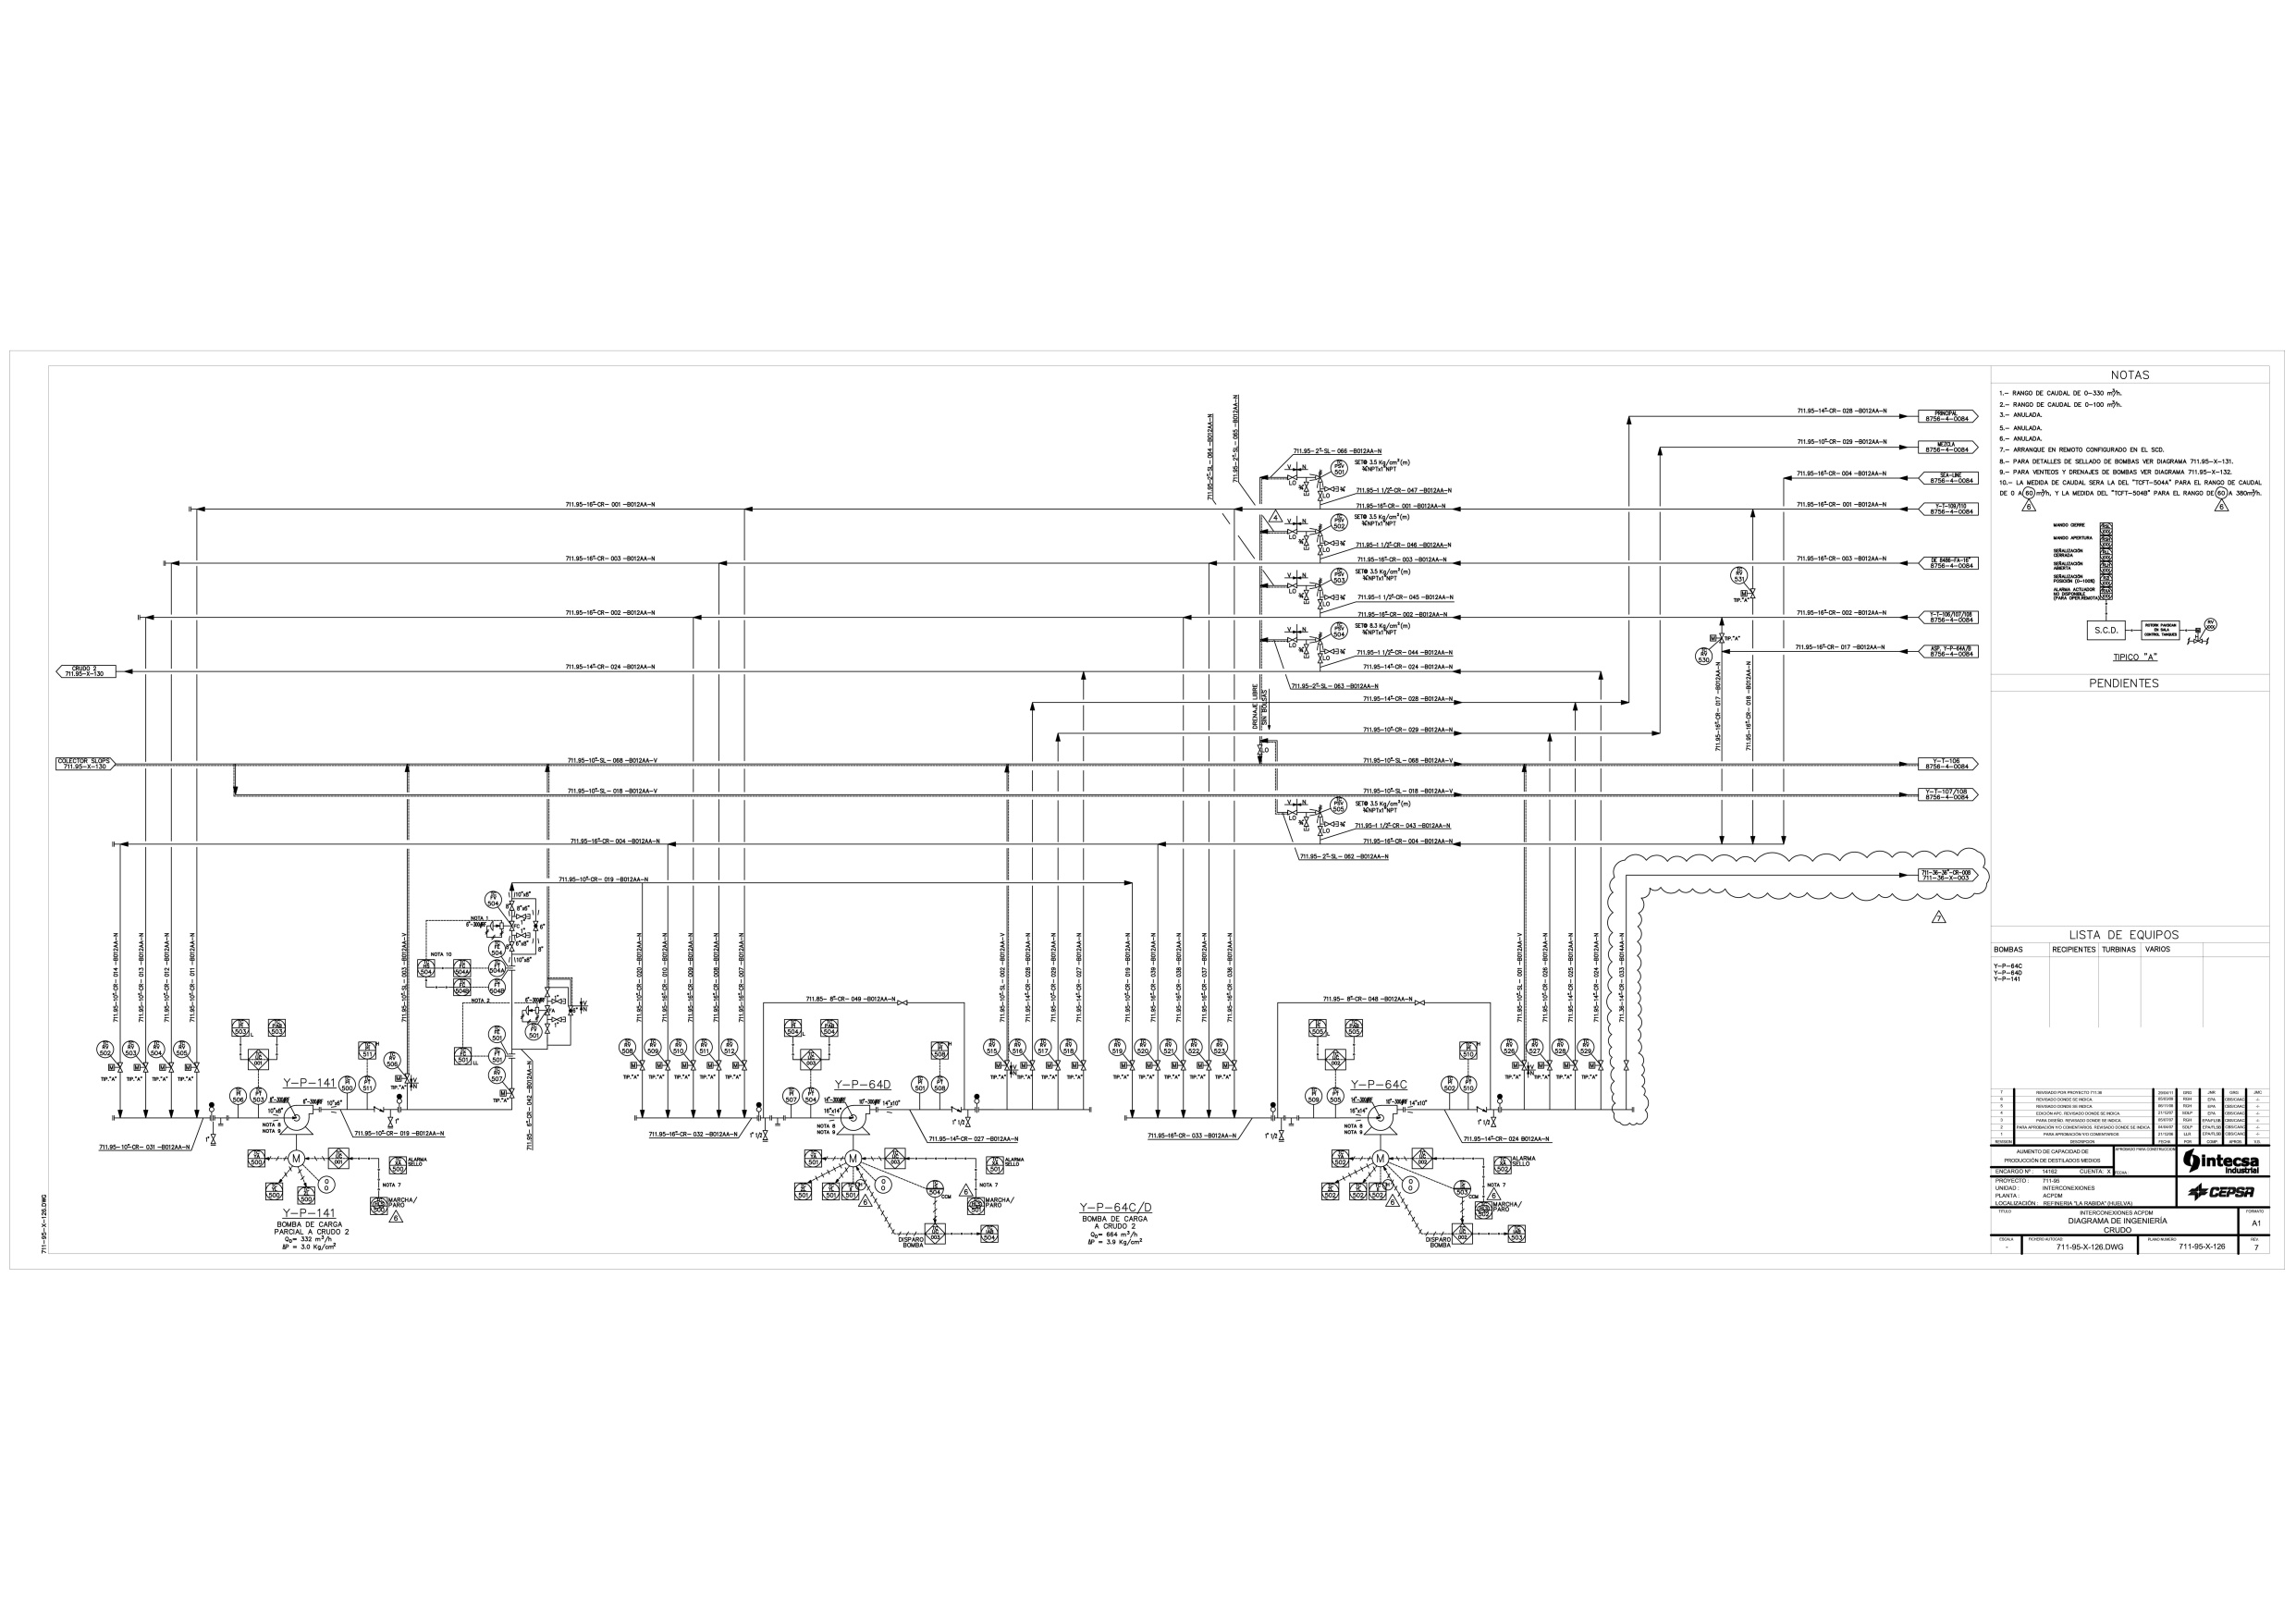Inlinel Instrument: (693, 1034, 714, 1060), (781, 1083, 802, 1109), (981, 1034, 1002, 1060), (1034, 1034, 1055, 1060), (1209, 1032, 1231, 1059), (1325, 1083, 1346, 1109), (95, 1037, 116, 1062), (121, 1037, 142, 1062), (170, 1036, 191, 1060), (228, 1085, 249, 1109), (486, 1022, 507, 1046), (718, 1034, 739, 1059), (337, 1073, 358, 1097), (909, 1073, 930, 1097), (1159, 1036, 1180, 1060), (1302, 1083, 1324, 1108), (488, 1064, 507, 1090), (618, 1034, 637, 1060), (1108, 1034, 1127, 1060), (644, 1036, 664, 1060), (484, 888, 504, 913)
Panel Instrument: (265, 1015, 288, 1037), (386, 1155, 409, 1178), (792, 1180, 814, 1202), (978, 1222, 1001, 1245), (985, 1155, 1008, 1178), (929, 1039, 951, 1062), (1506, 1224, 1529, 1246), (1343, 1016, 1366, 1039), (1308, 1016, 1331, 1039), (1329, 795, 1352, 818), (1329, 618, 1352, 641), (1329, 511, 1352, 534), (263, 1181, 286, 1202), (230, 1016, 251, 1039), (356, 1039, 377, 1062), (453, 1044, 474, 1067), (414, 957, 437, 978), (451, 957, 474, 978), (802, 1148, 825, 1169), (822, 1181, 844, 1202), (818, 1016, 839, 1039), (783, 1016, 804, 1039), (1331, 1146, 1352, 1169), (1320, 1180, 1341, 1202), (1492, 1153, 1513, 1176), (1457, 1039, 1480, 1060), (1499, 1037, 1522, 1059), (1550, 1037, 1573, 1059), (1331, 565, 1352, 588), (1327, 458, 1350, 479), (1729, 565, 1750, 588), (1694, 644, 1715, 667), (246, 1148, 267, 1169), (295, 1185, 316, 1206), (369, 1195, 390, 1216)
